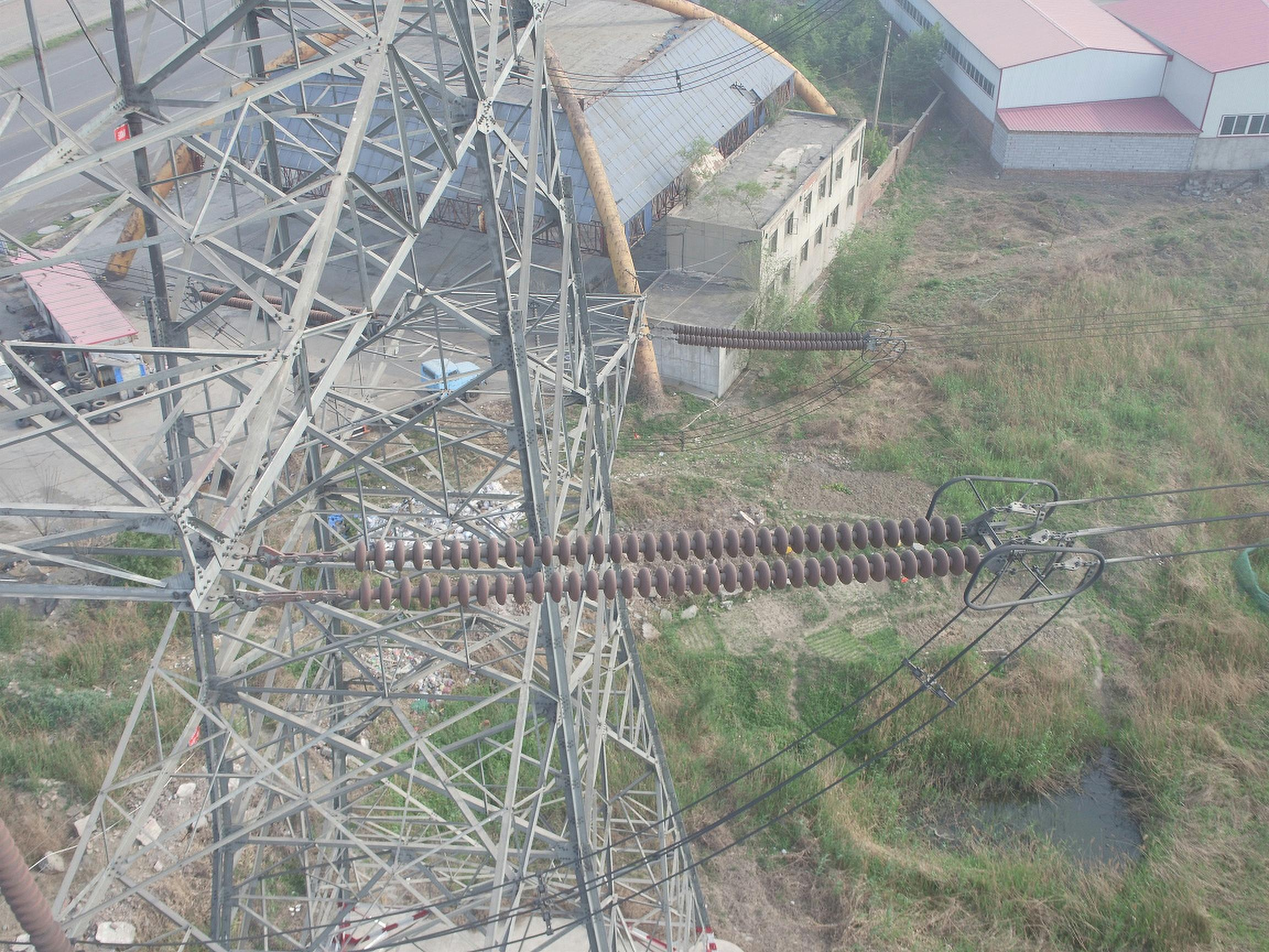insulator: (347, 512, 984, 615), (1, 804, 84, 952), (197, 284, 365, 326), (671, 321, 869, 353)
